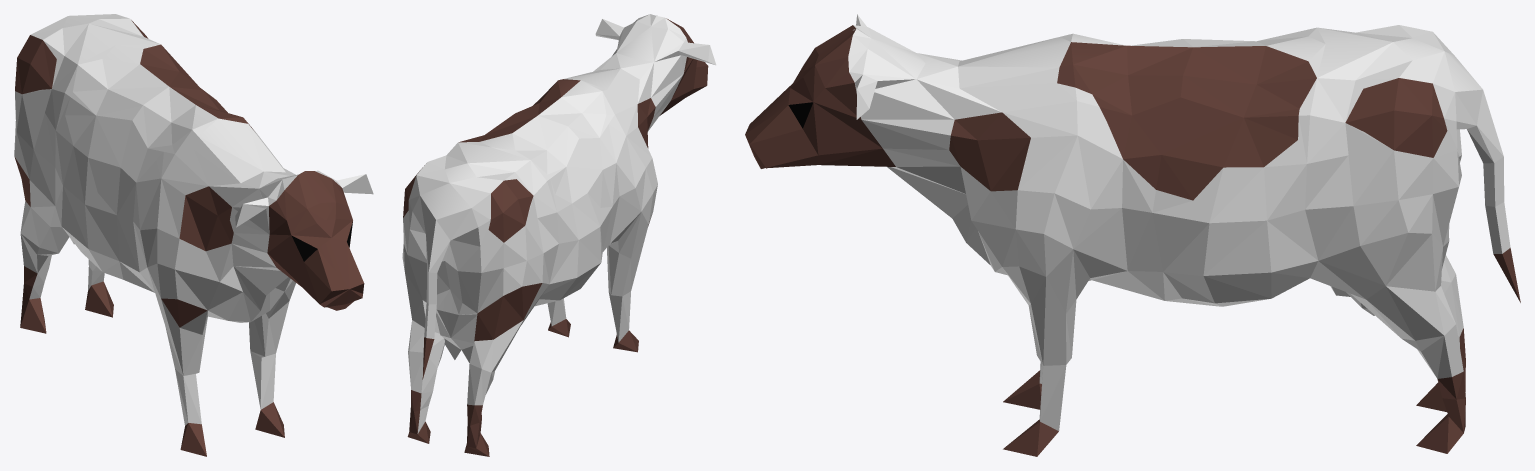
File: Cow.fbx
3 renders of one model, left to right at view 1: azimuth 30°, elevation 25°; view 2: azimuth 150°, elevation 25°; view 3: azimuth 270°, elevation 25°, orthographic. The views are drawn at different scales.
Parts seen in each view (by area): view 1: Cow_2; view 2: Cow_2; view 3: Cow_2.
Part boxes in pixels (x1,y1,x2,y2): Cow_2: (14, 14, 373, 456); Cow_2: (402, 14, 716, 456); Cow_2: (745, 14, 1520, 456).
Bounding box in the file's own units: 0.8032 × 1.57 × 2.79.
1 material, 1 textured.
